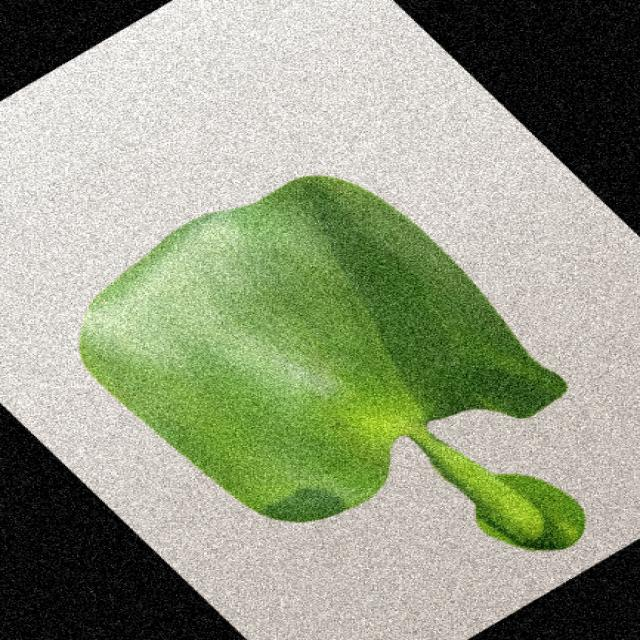daun sehat: (80, 176, 585, 550)
